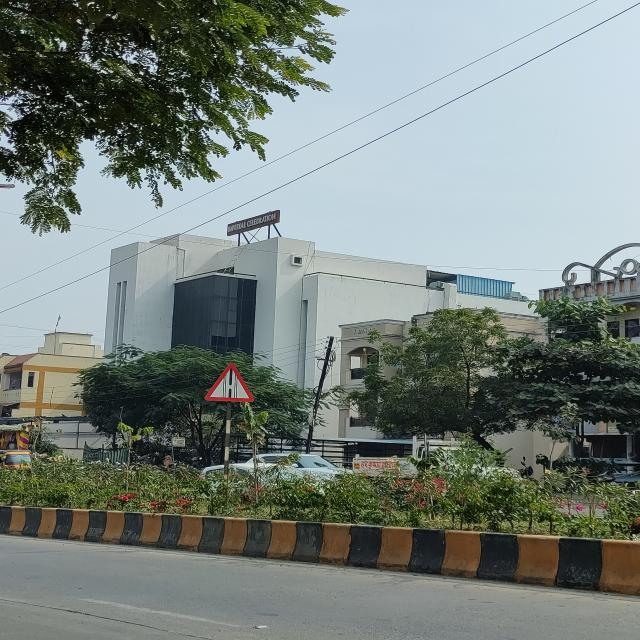GAP_IN_MEDIAN: (203, 363, 255, 402)
